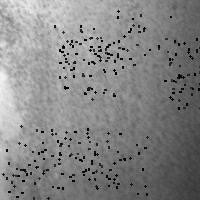pitted_surface: (4, 2, 192, 196), (62, 40, 122, 98), (38, 128, 94, 187), (59, 132, 119, 187), (89, 136, 146, 193), (117, 10, 174, 67), (2, 125, 59, 182), (54, 25, 113, 75), (59, 44, 114, 95), (164, 33, 200, 93), (169, 49, 200, 107), (0, 166, 47, 200)
